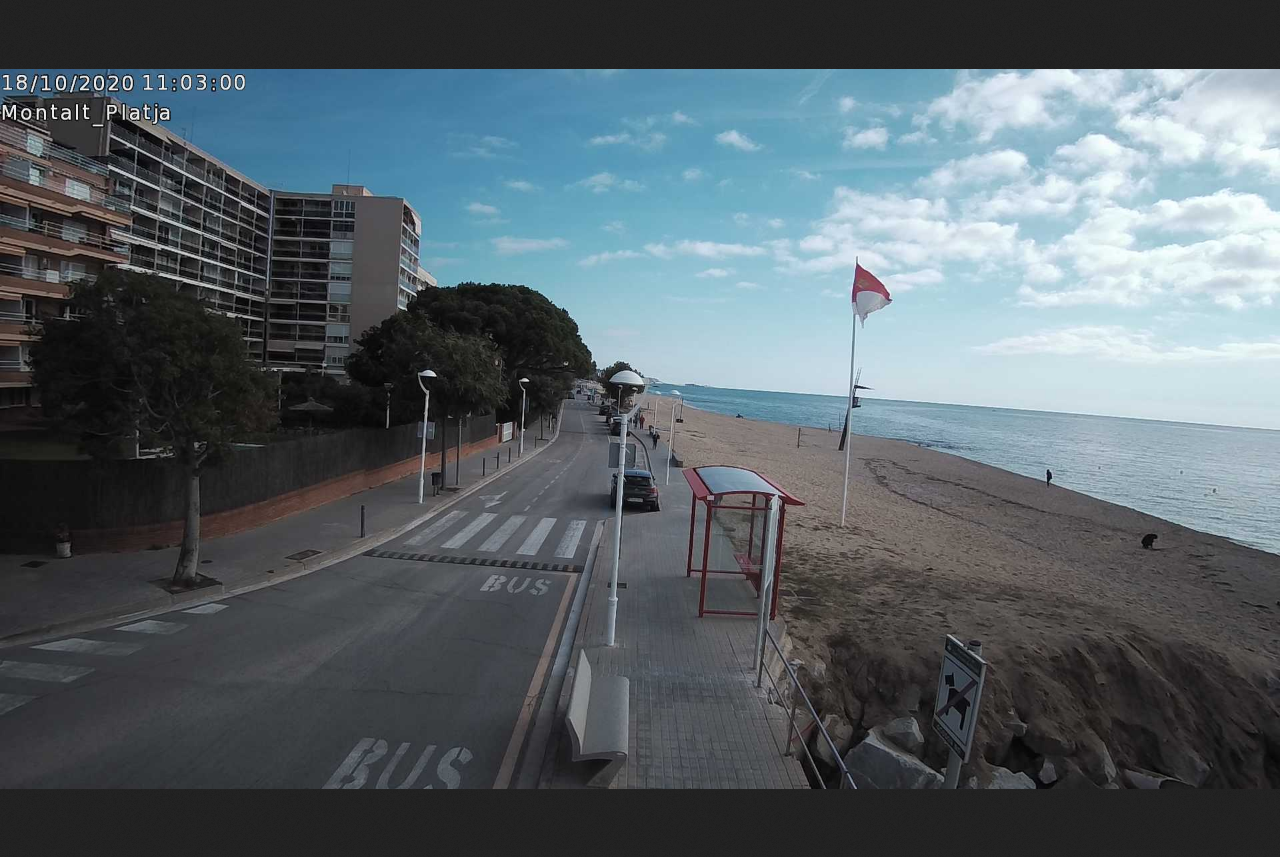maybe: (845, 259, 895, 327)
